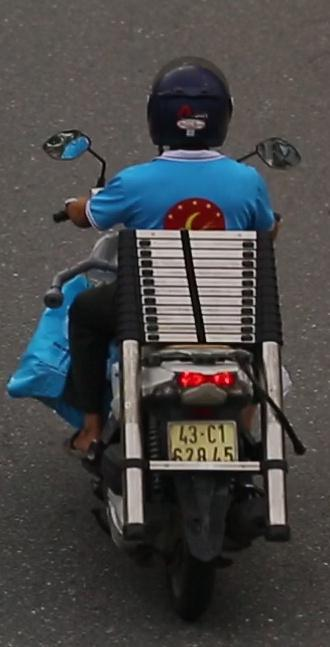LP: (162, 413, 243, 472)
helmet: (138, 52, 239, 173)
